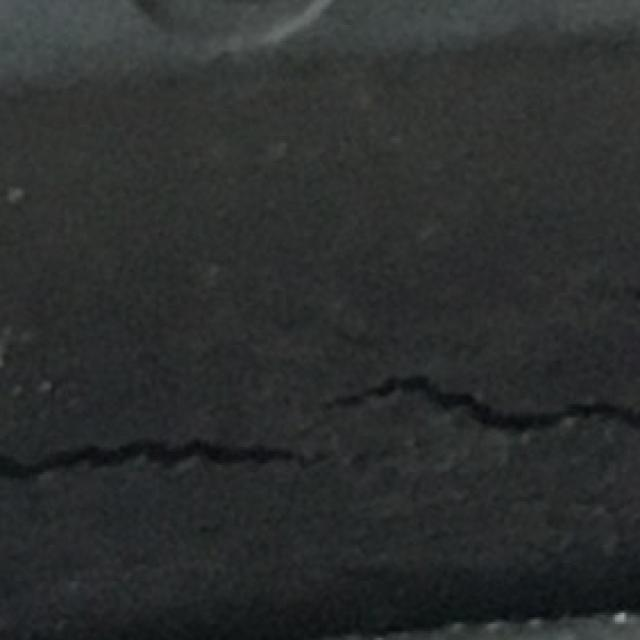Cracks: (2, 357, 640, 492)
Non-defective: (0, 0, 640, 325), (0, 529, 640, 640)
